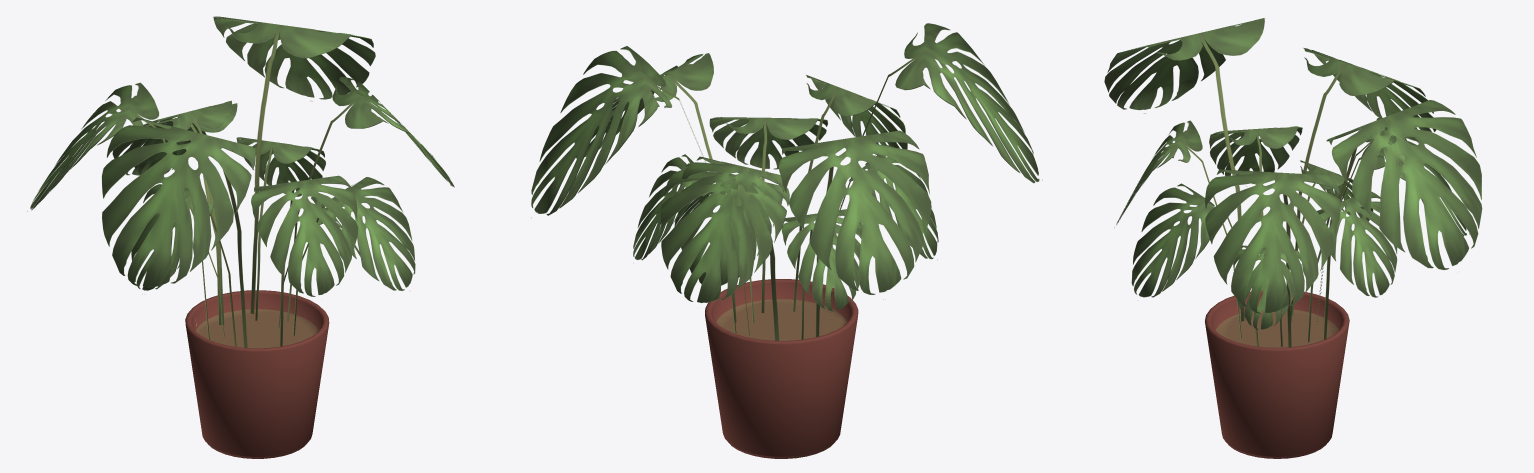
The model's file is MonsteraPlant.glb.
3 renders of one model, left to right at view 1: azimuth 30°, elevation 25°; view 2: azimuth 150°, elevation 25°; view 3: azimuth 270°, elevation 25°, orthographic. The views are drawn at different scales.
Visible parts, largest first — view 1: Monstera Plant; view 2: Monstera Plant; view 3: Monstera Plant.
Boxes of the visible parts, bbox=[...] form: Monstera Plant: bbox=[27, 16, 454, 458]; Monstera Plant: bbox=[531, 23, 1042, 458]; Monstera Plant: bbox=[1104, 18, 1482, 458].
Size of the model in its own units: 1.61 by 1.31 by 1.48.
2 materials, 2 textured.
